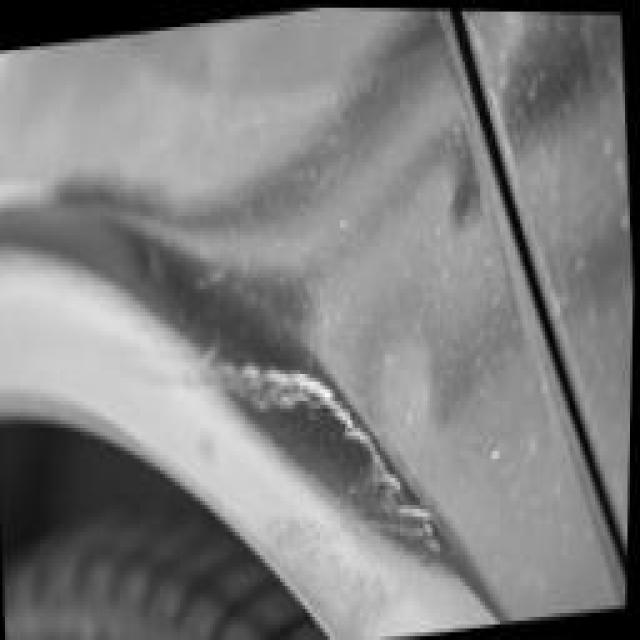Fender: (38, 58, 628, 639)
